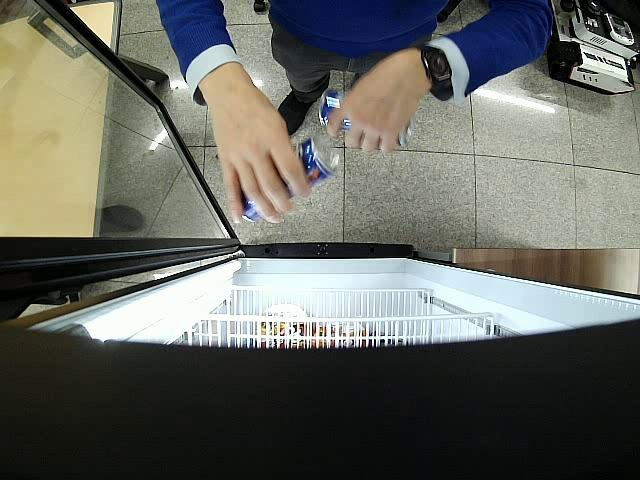00_hand: (207, 98, 312, 225), (325, 49, 425, 155)
16_hot6: (242, 137, 340, 222), (319, 87, 412, 148)
